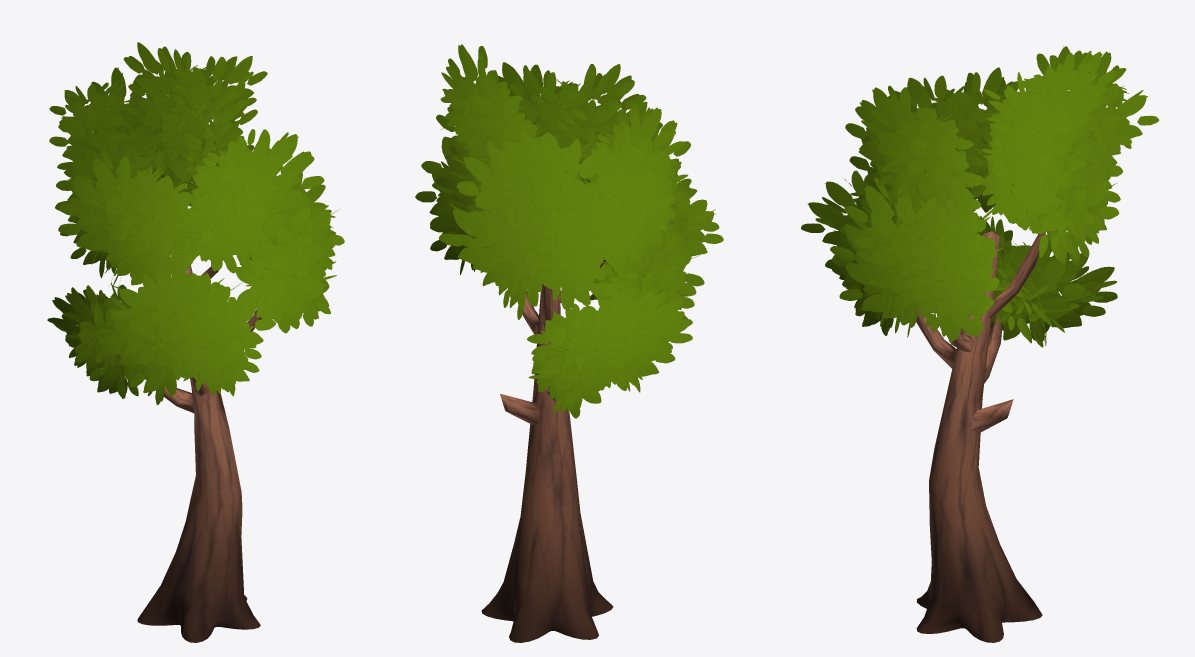
File: mk-common-5.glb
3 views of the same model, side by side, from view 1: azimuth 30°, elevation 25°; view 2: azimuth 150°, elevation 25°; view 3: azimuth 270°, elevation 25° (orthographic). The views are drawn at different scales.
Visible parts, largest first — view 1: CommonTree_5; view 2: CommonTree_5; view 3: CommonTree_5.
Part boxes in pixels (x1,y1,x2,y2): CommonTree_5: (47, 42, 344, 642); CommonTree_5: (415, 44, 723, 642); CommonTree_5: (801, 46, 1159, 642).
Size of the model in its own units: 3.79 by 7.07 by 4.35.
2 materials, 2 textured.
